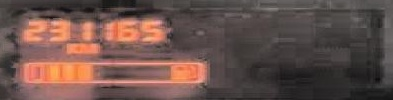1: (97, 18, 113, 42), (75, 19, 93, 40)
2: (17, 18, 44, 42)
3: (47, 18, 69, 42)
5: (137, 18, 162, 42)
6: (113, 18, 137, 42)
X: (73, 43, 97, 54), (60, 43, 75, 54)
